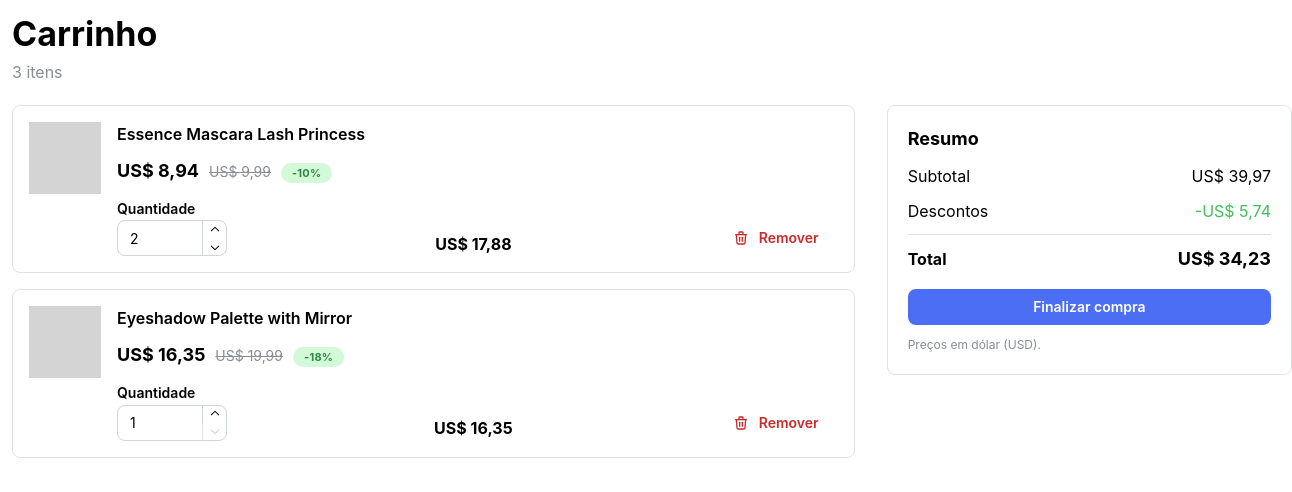
CartPage: finalizar a compra › na falha, avisa e mantém o carrinho para tentar de novo
The width and height of the screenshot is (1292, 492).
Click the button "Finalizar compra" at (1089, 308), box [908, 290, 1271, 326]
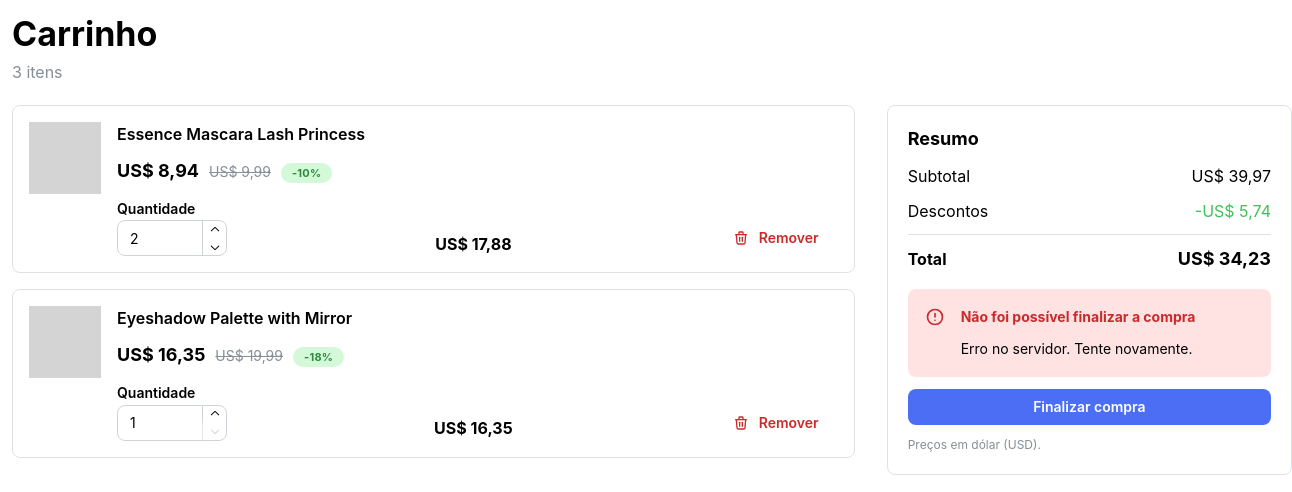
Expected: the message reads "Não foi possível finalizar a compra Erro no servidor. Tente novamente.", [908, 290, 1271, 377]
Click the button "Finalizar compra" at (1089, 407), box [908, 389, 1271, 425]
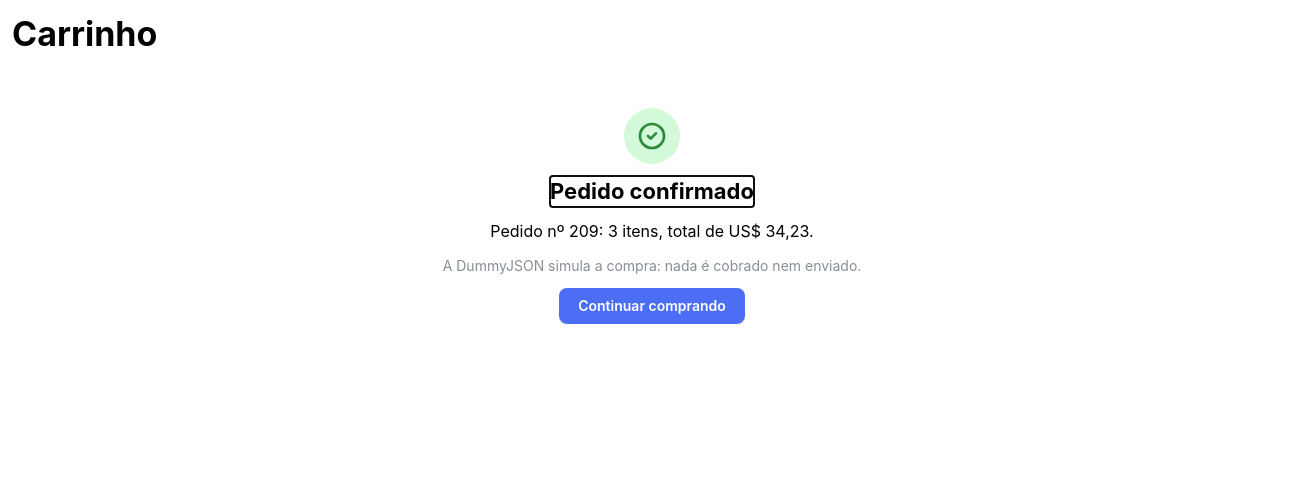
Expected: the heading "Pedido confirmado" is shown, [550, 176, 754, 207]
